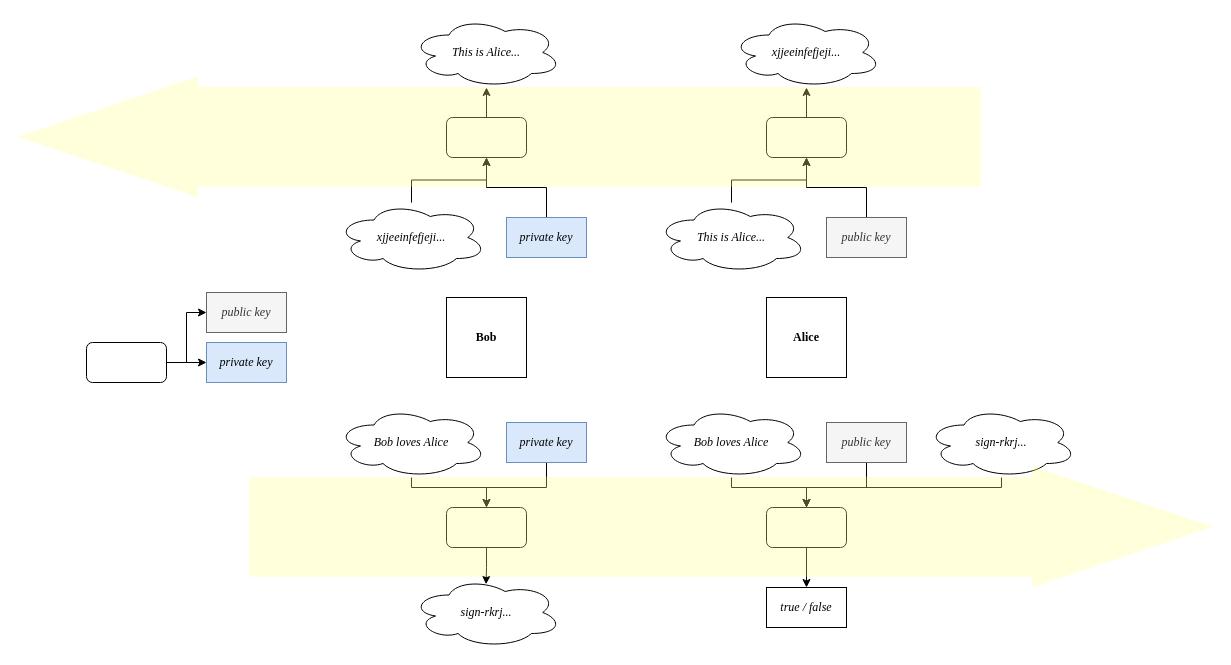
Some shapes in this 1231 by 665 pixel diagram are drawn without their labels. The centre of each missing label's shape, as x and y in pixels:
decrypt: the point at 486,137
encrypt: the point at 806,137
keygen: the point at 126,362
sign: the point at 486,527
verify: the point at 806,527
